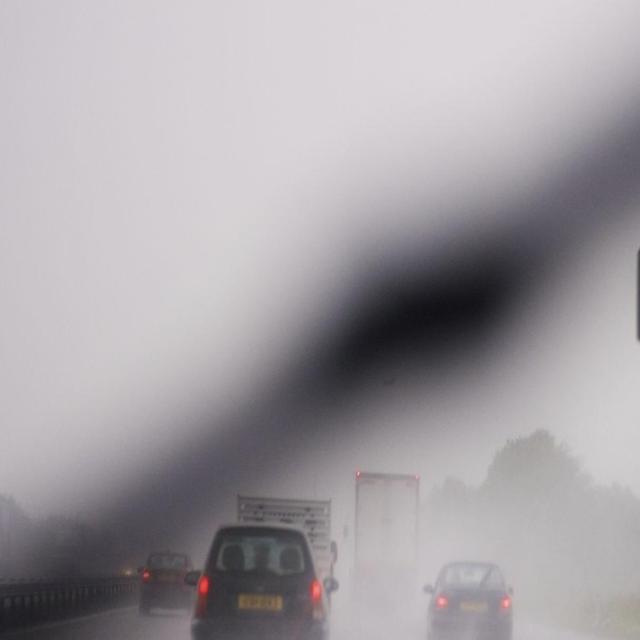Car: (184, 518, 341, 640), (422, 558, 517, 640), (136, 546, 195, 616)
Truck: (228, 484, 340, 616), (345, 459, 425, 627)
